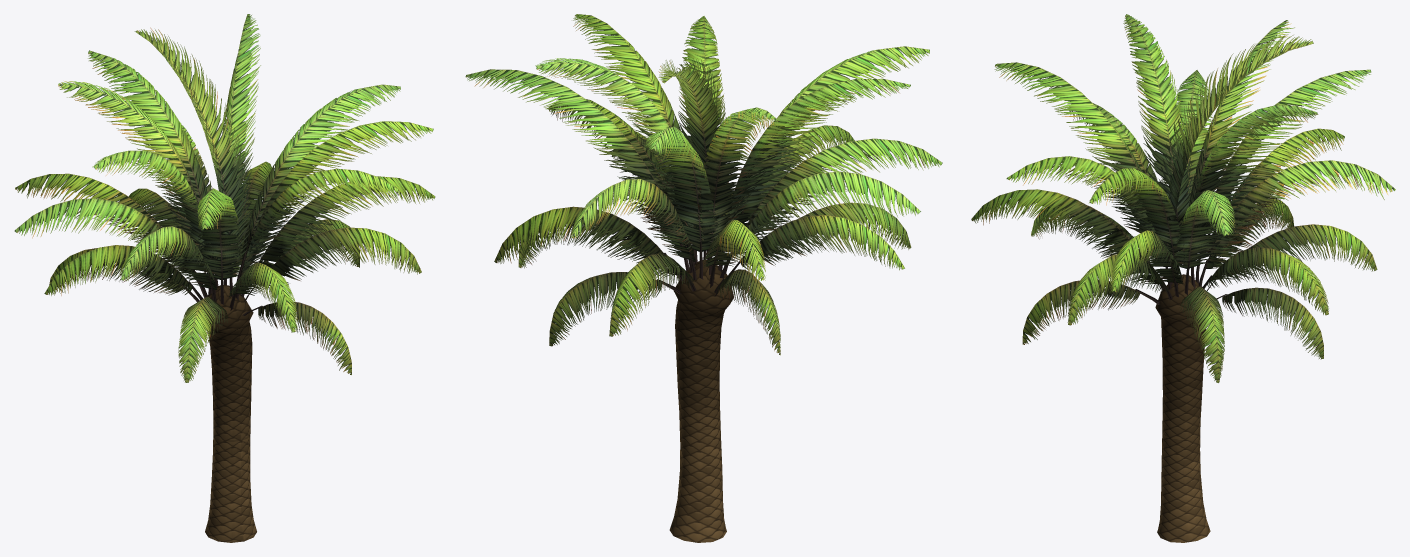
The model's file is mm8_deco_tree02.glb.
3 views of the same model, side by side, from view 1: azimuth 30°, elevation 25°; view 2: azimuth 150°, elevation 25°; view 3: azimuth 270°, elevation 25° (orthographic). The views are drawn at different scales.
Visible parts, largest first — view 1: Plant; view 2: Plant; view 3: Plant.
Part boxes in pixels (x1,y1,x2,y2): Plant: [14, 14, 435, 542]; Plant: [465, 14, 942, 542]; Plant: [971, 14, 1395, 542].
Bounding box in the file's own units: 10.2 × 11.55 × 9.16.
Materials: 2 (2 with a texture image).
